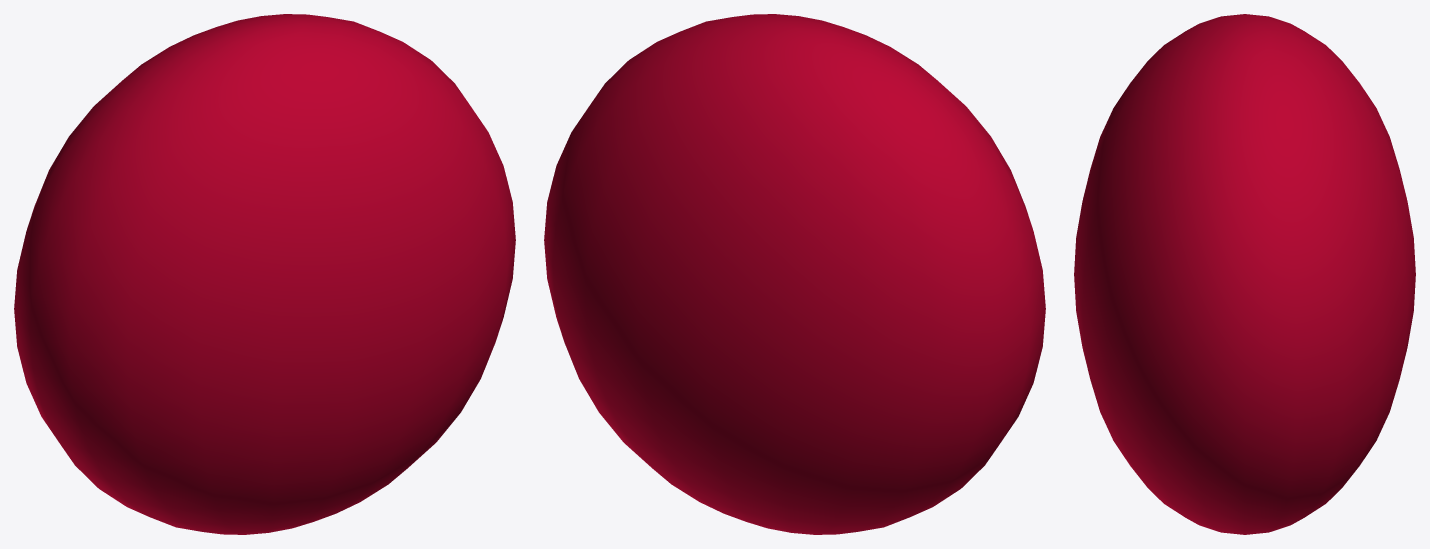
The model's file is Red Skittles.fbx.
The picture shows the model from 3 angles, left to right: view 1: azimuth 30°, elevation 25°; view 2: azimuth 150°, elevation 25°; view 3: azimuth 270°, elevation 25°; orthographic projection. The views are drawn at different scales.
Visible parts, largest first — view 1: pSphere1; view 2: pSphere1; view 3: pSphere1.
Boxes of the visible parts, x1=… form: pSphere1: x1=14, y1=14, x2=515, y2=534; pSphere1: x1=544, y1=14, x2=1045, y2=534; pSphere1: x1=1074, y1=14, x2=1415, y2=534.
Bounding box in the file's own units: 2 × 2 × 1.31.
